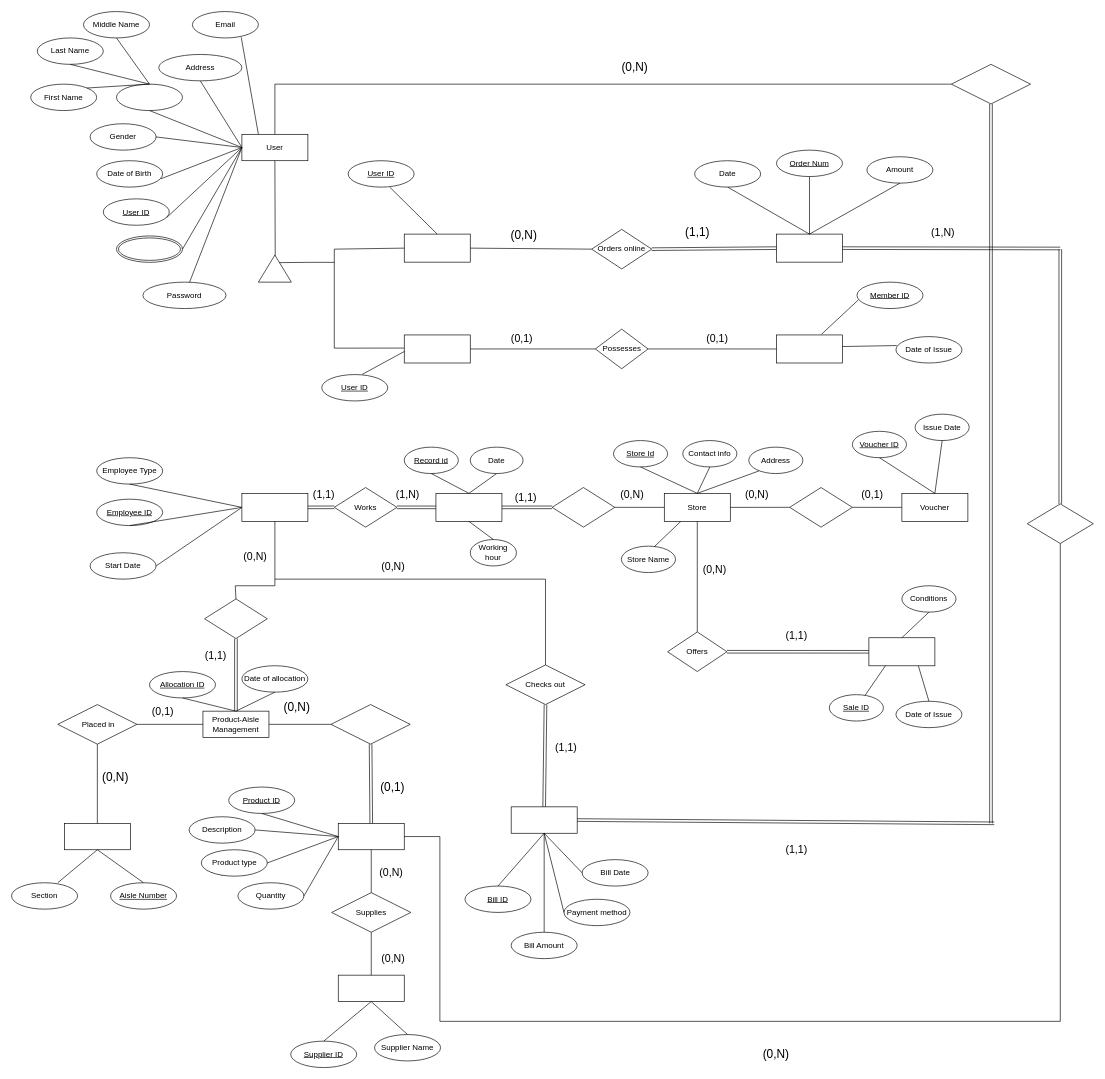
Image size: 1105x1079. Some labels were removed from this diagram. Here are the shapes that lost their labels. From the top down, the centre of each, then its label:
At (x=149, y=97): "Name".
At (x=991, y=84): "Generates".
At (x=149, y=248): "Phone Number".
At (x=437, y=247): "OnlineCustomer".
At (x=809, y=247): "Orders".
At (x=274, y=268): "ISA".
At (x=437, y=348): "Walk-in-Customer".
At (x=809, y=348): "Membership Card".
At (x=274, y=507): "Employee".
At (x=468, y=507): "Shift Duty".
At (x=583, y=507): "Offered by".
At (x=820, y=507): "Issues".
At (x=1060, y=523): "Contains".
At (x=235, y=618): "Works on".
At (x=901, y=651): "Sale".
At (x=370, y=724): "Ordered for".
At (x=97, y=836): "Aisle".
At (x=371, y=836): "Product".
At (x=544, y=819): "Bill".
At (x=371, y=988): "Supplier".
